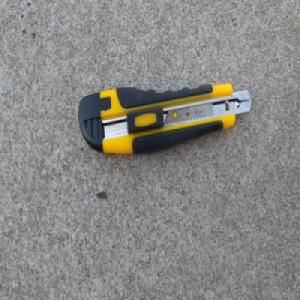Cutter: (77, 82, 251, 155)
